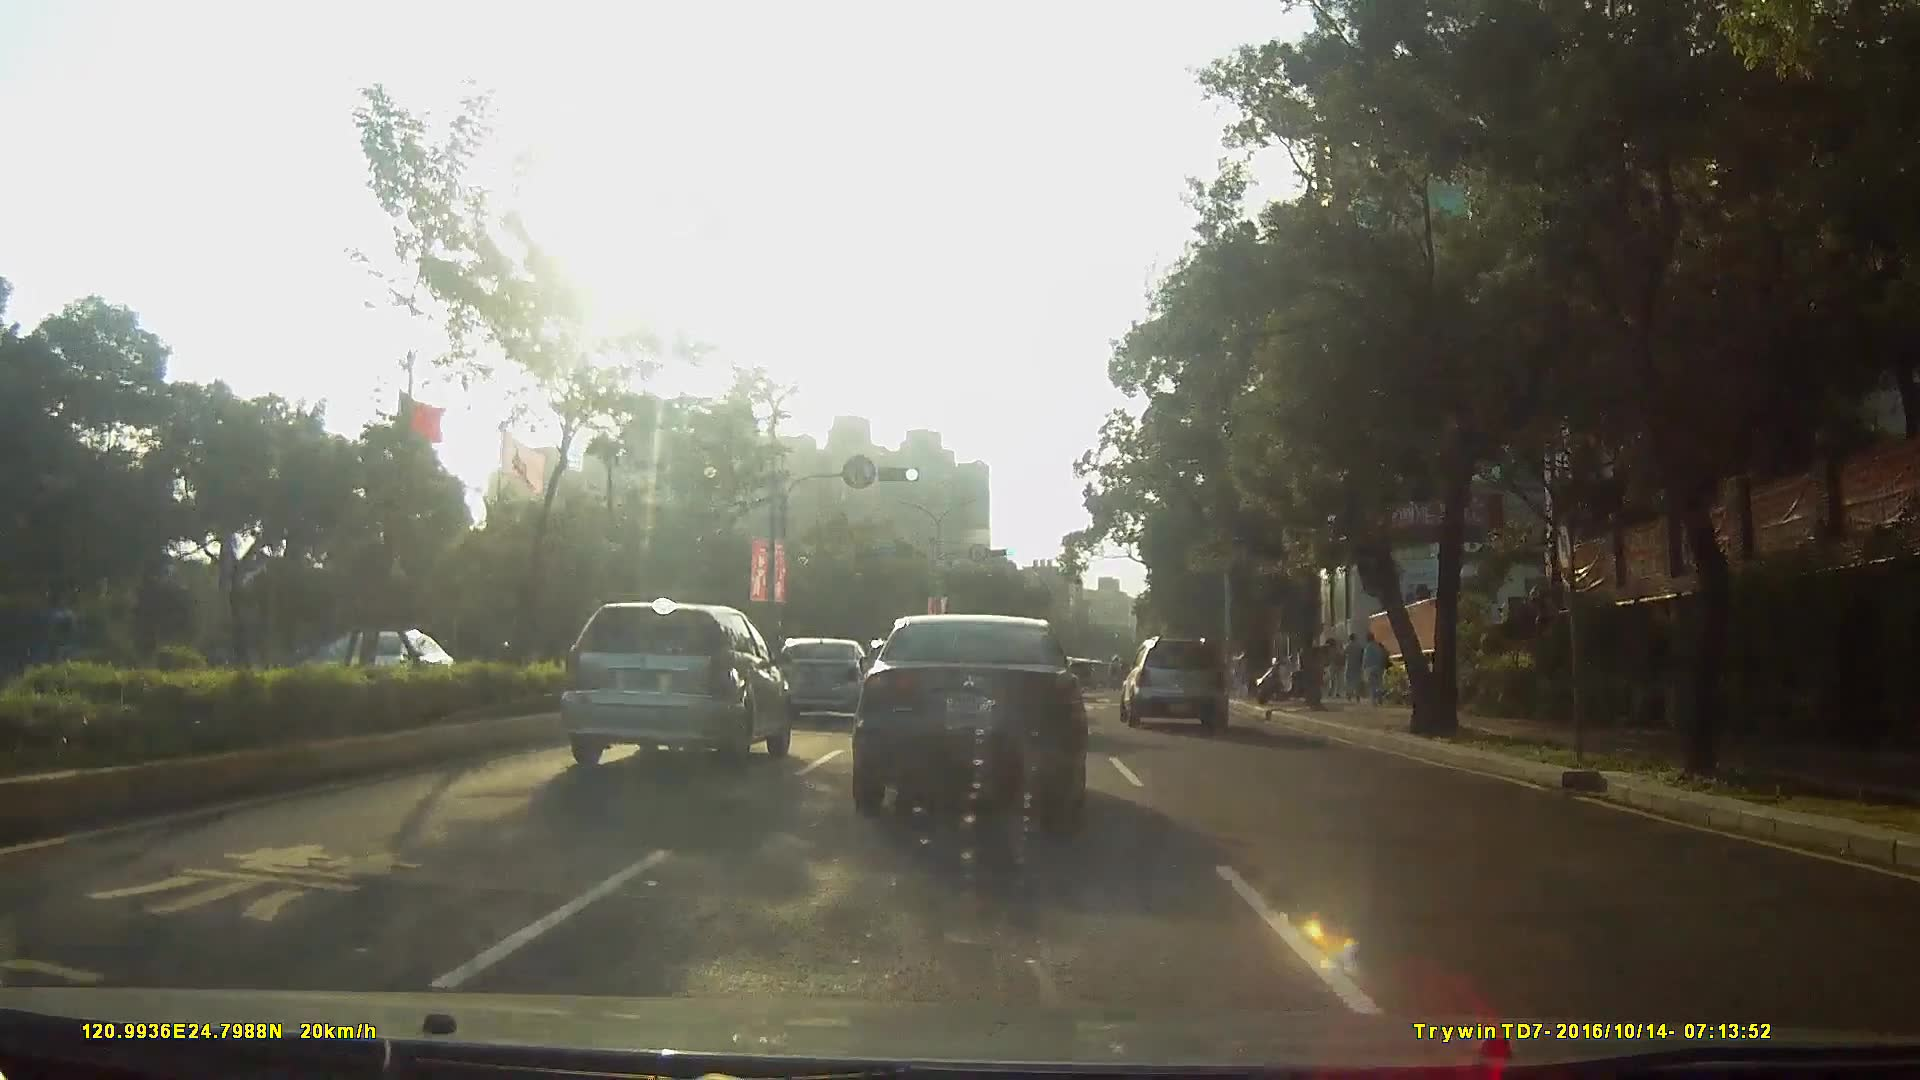pedestrian: (1361, 624, 1389, 705), (1345, 627, 1365, 706)
vehicle: (849, 599, 1087, 811), (556, 587, 791, 759), (288, 624, 461, 706), (1116, 631, 1242, 727), (778, 638, 870, 726)
